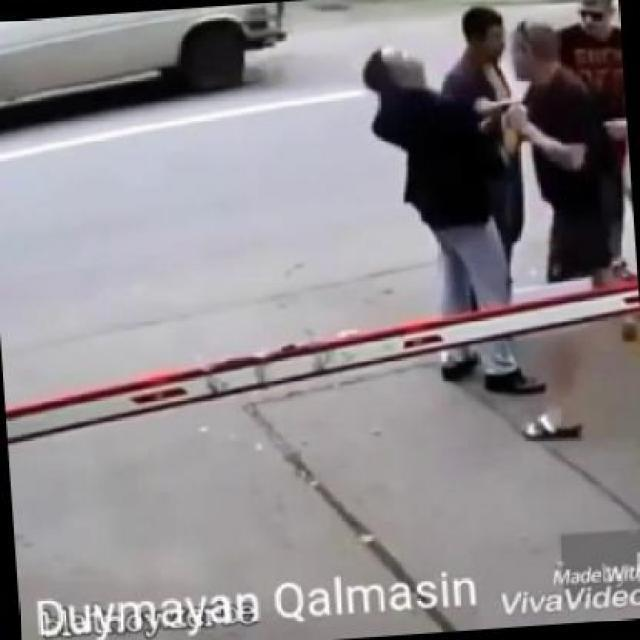fight: (355, 9, 620, 285)
